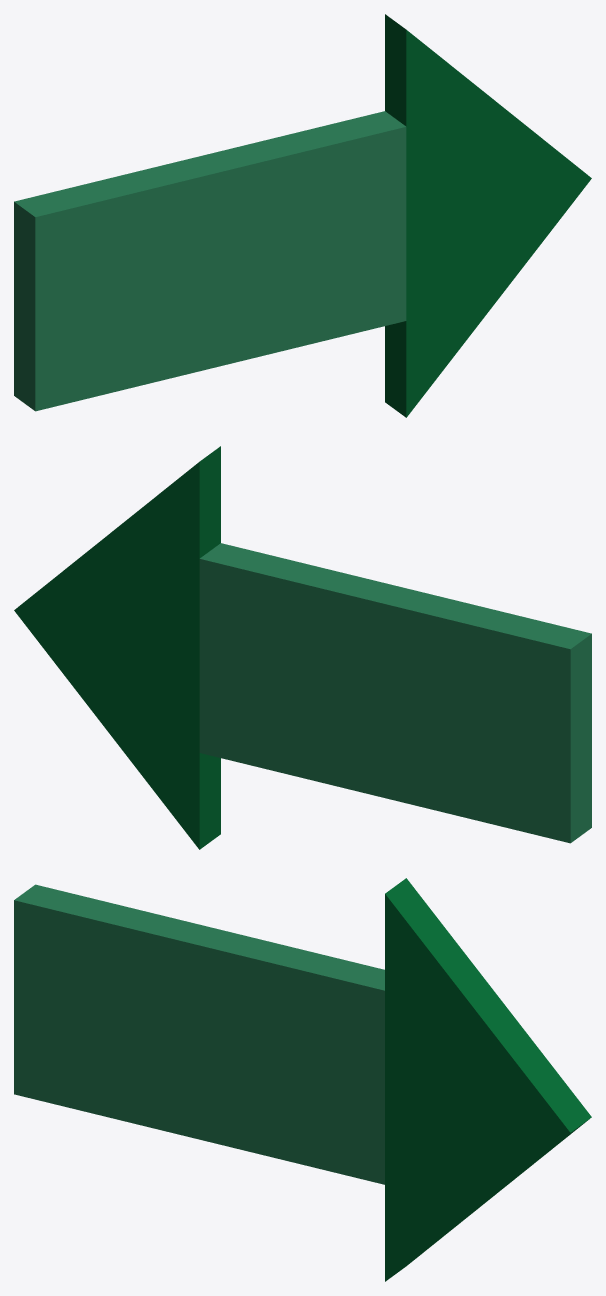
The model's file is arrow-right.dae.
3 views of the same model, one above another, from view 1: azimuth 30°, elevation 25°; view 2: azimuth 150°, elevation 25°; view 3: azimuth 330°, elevation 25° (orthographic).
Parts seen in each view (by area): view 1: Box, Box1; view 2: Box, Box1; view 3: Box, Box1.
Part boxes in pixels (left/top/right/bottom): Box: left=14, top=111, right=406, bottom=411; Box1: left=385, top=14, right=591, bottom=417; Box: left=199, top=543, right=591, bottom=843; Box1: left=14, top=446, right=220, bottom=849; Box: left=14, top=884, right=384, bottom=1184; Box1: left=385, top=878, right=591, bottom=1281.
Bounding box in the file's own units: 1.5 × 1 × 0.1.
